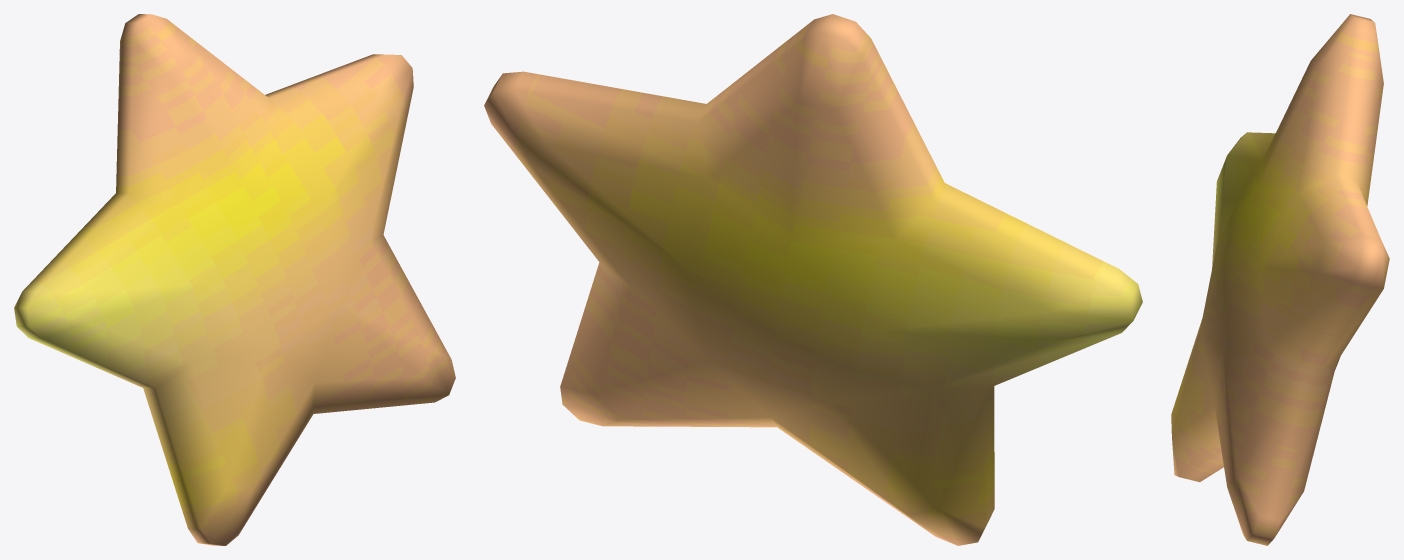
The model's file is star.FBX.
The picture shows the model from 3 angles, left to right: view 1: azimuth 30°, elevation 25°; view 2: azimuth 150°, elevation 25°; view 3: azimuth 270°, elevation 25°; orthographic projection. The views are drawn at different scales.
Parts seen in each view (by area): view 1: polygon1; view 2: polygon1; view 3: polygon1.
Boxes of the visible parts, x1,y1,x2,y2 form: polygon1: (14, 14, 455, 545); polygon1: (484, 14, 1142, 545); polygon1: (1171, 14, 1389, 545).
Size of the model in its own units: 10.24 by 10.24 by 4.31.
